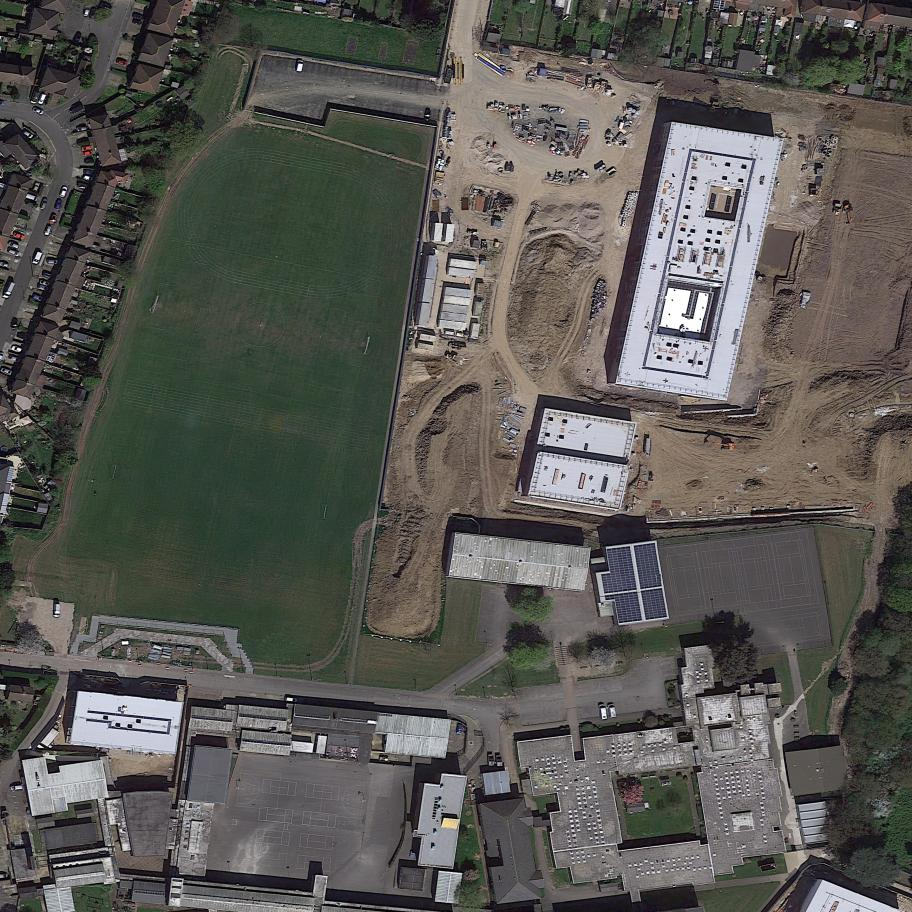large-vehicle: (36, 727, 60, 753), (2, 280, 16, 299), (53, 603, 61, 619)
small-vehicle: (69, 103, 85, 116), (29, 90, 41, 105), (31, 251, 43, 265), (16, 331, 30, 341), (608, 704, 617, 719), (22, 129, 34, 140), (39, 197, 49, 210), (59, 186, 69, 199), (32, 106, 45, 116), (72, 32, 82, 45), (599, 704, 607, 720), (12, 232, 26, 241), (25, 193, 39, 202), (99, 2, 113, 11), (37, 93, 47, 105), (295, 60, 304, 73), (7, 241, 20, 250), (423, 109, 432, 122), (82, 4, 91, 17), (132, 12, 145, 21), (11, 345, 24, 354), (32, 293, 45, 302), (0, 367, 13, 376), (89, 6, 97, 20), (32, 181, 41, 193), (8, 248, 20, 257), (43, 225, 52, 237), (9, 355, 22, 363), (37, 284, 50, 292), (10, 318, 18, 331), (54, 199, 63, 210), (49, 214, 58, 225), (77, 181, 89, 189), (42, 271, 54, 279), (39, 279, 51, 287), (132, 18, 143, 26), (116, 59, 128, 66), (83, 169, 97, 175), (46, 259, 60, 265), (284, 697, 298, 703), (456, 723, 463, 735), (75, 126, 88, 132), (10, 785, 23, 791), (83, 175, 94, 182), (42, 272, 53, 279), (83, 150, 93, 157), (81, 145, 92, 151), (10, 785, 23, 790), (84, 158, 94, 164)
